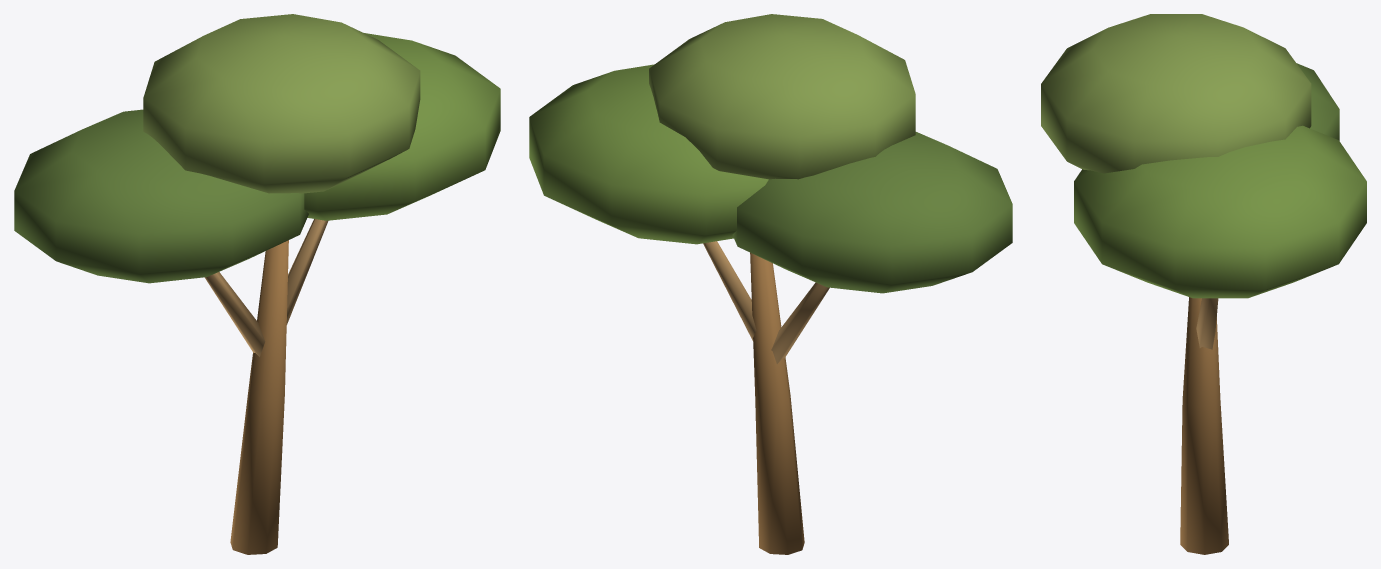
Rendered from alc_tree_d.glb.
3 views of the same model, side by side, from view 1: azimuth 30°, elevation 25°; view 2: azimuth 150°, elevation 25°; view 3: azimuth 270°, elevation 25° (orthographic). The views are drawn at different scales.
Visible parts, largest first — view 1: alc_tree_d; view 2: alc_tree_d; view 3: alc_tree_d.
Boxes of the visible parts, x1,y1,x2,y2 form: alc_tree_d: (14, 14, 500, 554); alc_tree_d: (529, 14, 1012, 554); alc_tree_d: (1041, 14, 1366, 554).
Bounding box in the file's own units: 3.29 × 3.6 × 2.06.
